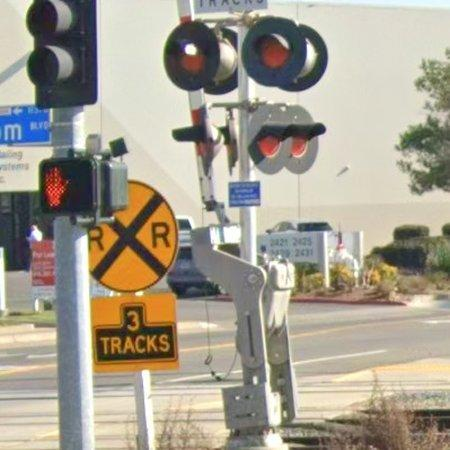traffic lights: (240, 8, 337, 94), (24, 0, 100, 105), (159, 9, 240, 100), (246, 102, 327, 179)
